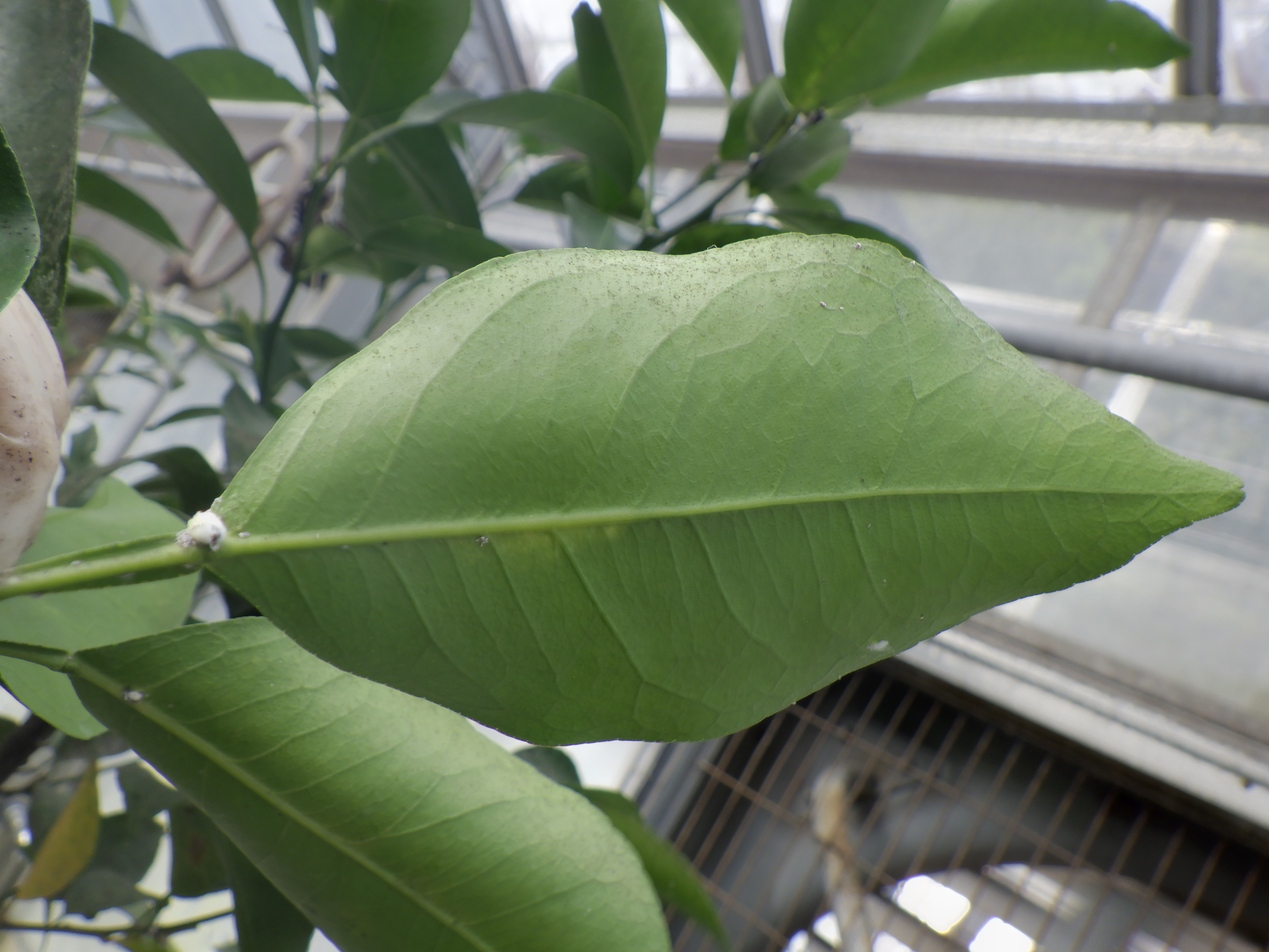Scale_Insect: (176, 511, 227, 551)
